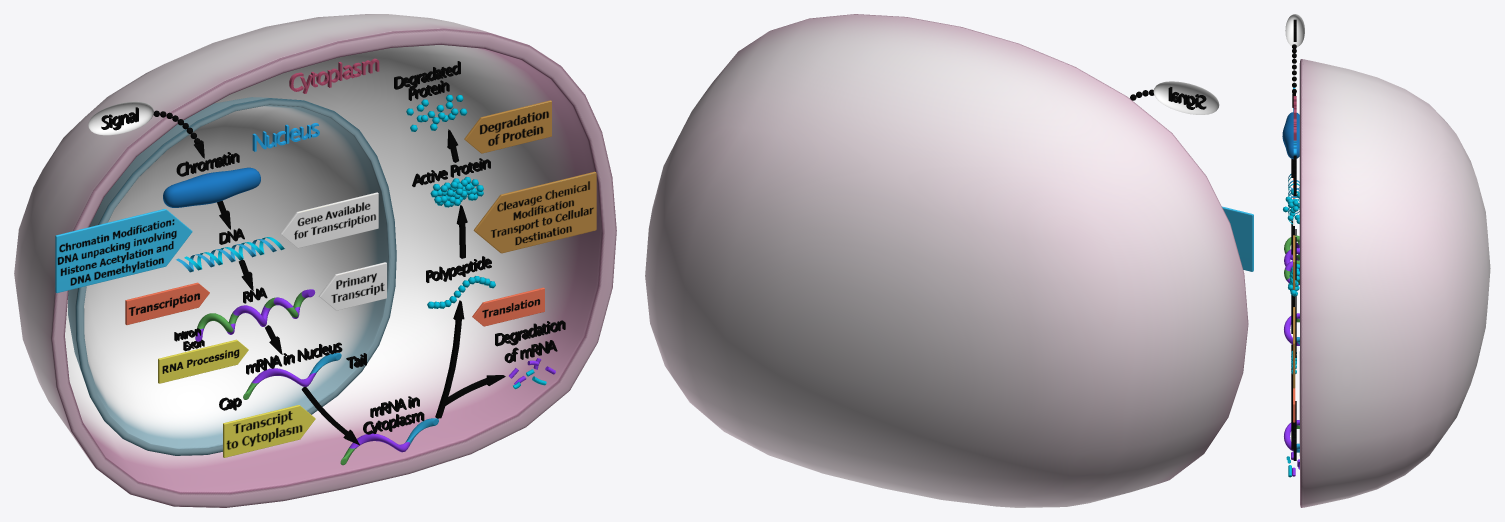
The model's file is regulation_of_gene_expression.glb.
3 renders of one model, left to right at view 1: azimuth 30°, elevation 25°; view 2: azimuth 150°, elevation 25°; view 3: azimuth 270°, elevation 25°, orthographic. The views are drawn at different scales.
Visible parts, largest first — view 1: polySurface155, pCube103, pCylinder9, polySurface153, polySurface154; view 2: polySurface155, polySurface154, pCube103; view 3: polySurface155, pCylinder9, polySurface153, pCube103, polySurface154.
Part boxes in pixels (x1,y1,x2,y2): polySurface155: (14,14,616,507); pCube103: (55,100,596,457); pCylinder9: (153,94,555,465); polySurface153: (101,58,565,434); polySurface154: (88,101,153,135); polySurface155: (645,14,1248,507); polySurface154: (1153,81,1219,114); pCube103: (1222,206,1253,271); polySurface155: (1299,59,1490,507); pCylinder9: (1282,44,1299,477); polySurface153: (1293,19,1296,460); pCube103: (1293,87,1295,422); polySurface154: (1285,14,1304,46).
Size of the model in its own units: 0.1152 by 0.0875 by 0.0469.
Materials: 5 (4 with a texture image).
